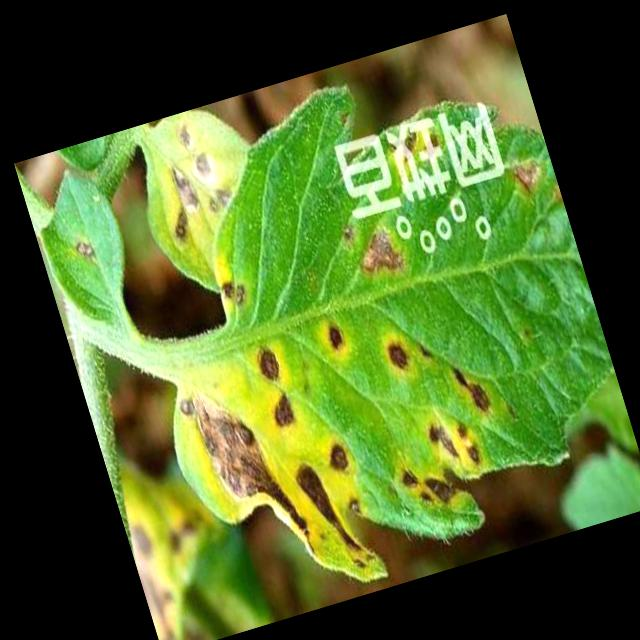Early_blight: (175, 369, 319, 586), (291, 453, 378, 580), (394, 446, 476, 520), (152, 162, 208, 246), (419, 408, 483, 476), (349, 222, 411, 284), (446, 356, 496, 423), (384, 123, 444, 168), (318, 432, 363, 484), (261, 387, 303, 439), (377, 330, 414, 382), (247, 341, 288, 386), (507, 155, 550, 197), (214, 272, 251, 316), (186, 148, 220, 190), (171, 118, 200, 154), (324, 321, 348, 351), (71, 238, 97, 261)
